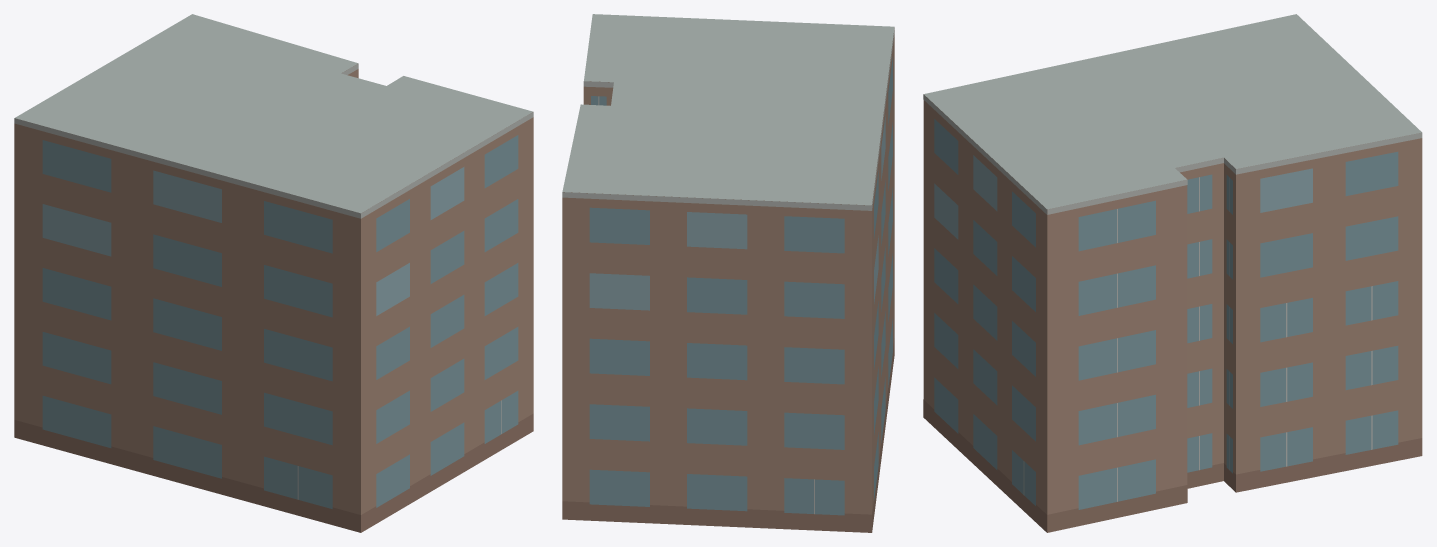
The model's file is survey-upis-32741811.glb.
The picture shows the model from 3 angles, left to right: view 1: azimuth 30°, elevation 25°; view 2: azimuth 150°, elevation 25°; view 3: azimuth 270°, elevation 25°; orthographic projection. The views are drawn at different scales.
Parts seen in each view (by area): view 1: survey-upis-32741811.tmp; view 2: survey-upis-32741811.tmp; view 3: survey-upis-32741811.tmp.
Boxes of the visible parts, x1,y1,x2,y2 form: survey-upis-32741811.tmp: [14, 14, 533, 532]; survey-upis-32741811.tmp: [562, 14, 894, 532]; survey-upis-32741811.tmp: [923, 14, 1422, 532].
Size of the model in its own units: 18.68 by 14.4 by 20.14.
